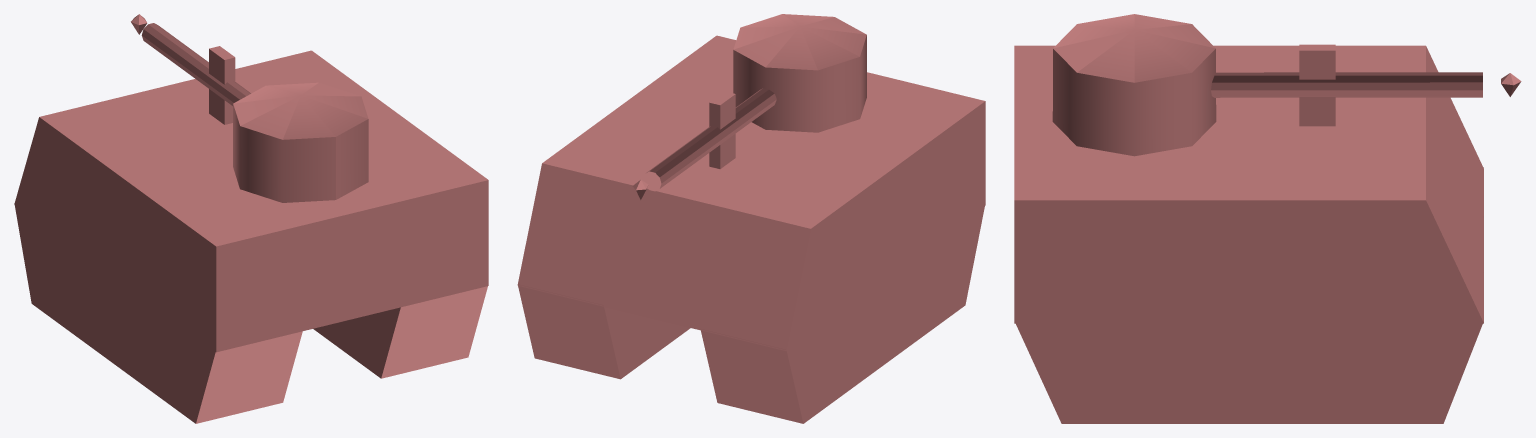
3 views of the same model, side by side, from view 1: azimuth 30°, elevation 25°; view 2: azimuth 150°, elevation 25°; view 3: azimuth 270°, elevation 25° (orthographic). The views are drawn at different scales.
Parts seen in each view (by area): view 1: x3ds_Box01, x3ds_Box03, x3ds_Cylinder01, x3ds_Box02, x3ds_Cylinder02, x3ds_Box05; view 2: x3ds_Box01, x3ds_Box03, x3ds_Cylinder01, x3ds_Box02, x3ds_Cylinder02, x3ds_Box05; view 3: x3ds_Box01, x3ds_Box02, x3ds_Cylinder01, x3ds_Cylinder02, x3ds_Box05.
Boxes of the visible parts, left/top/right/bottom form: x3ds_Box01: left=14, top=50, right=488, bottom=352; x3ds_Box03: left=14, top=203, right=302, bottom=423; x3ds_Cylinder01: left=233, top=82, right=368, bottom=202; x3ds_Box02: left=313, top=286, right=487, bottom=378; x3ds_Cylinder02: left=141, top=23, right=250, bottom=105; x3ds_Box05: left=209, top=46, right=235, bottom=124; x3ds_Box01: left=517, top=35, right=985, bottom=351; x3ds_Box03: left=700, top=204, right=985, bottom=423; x3ds_Cylinder01: left=733, top=14, right=866, bottom=132; x3ds_Box02: left=518, top=284, right=690, bottom=379; x3ds_Cylinder02: left=643, top=88, right=776, bottom=191; x3ds_Box05: left=709, top=91, right=735, bottom=168; x3ds_Box01: left=1014, top=45, right=1483, bottom=323; x3ds_Box02: left=1015, top=321, right=1483, bottom=423; x3ds_Cylinder01: left=1052, top=14, right=1216, bottom=156; x3ds_Cylinder02: left=1211, top=72, right=1482, bottom=97; x3ds_Box05: left=1299, top=44, right=1335, bottom=126.
Bounding box in the file's own units: 30.7 × 29.32 × 42.55.
